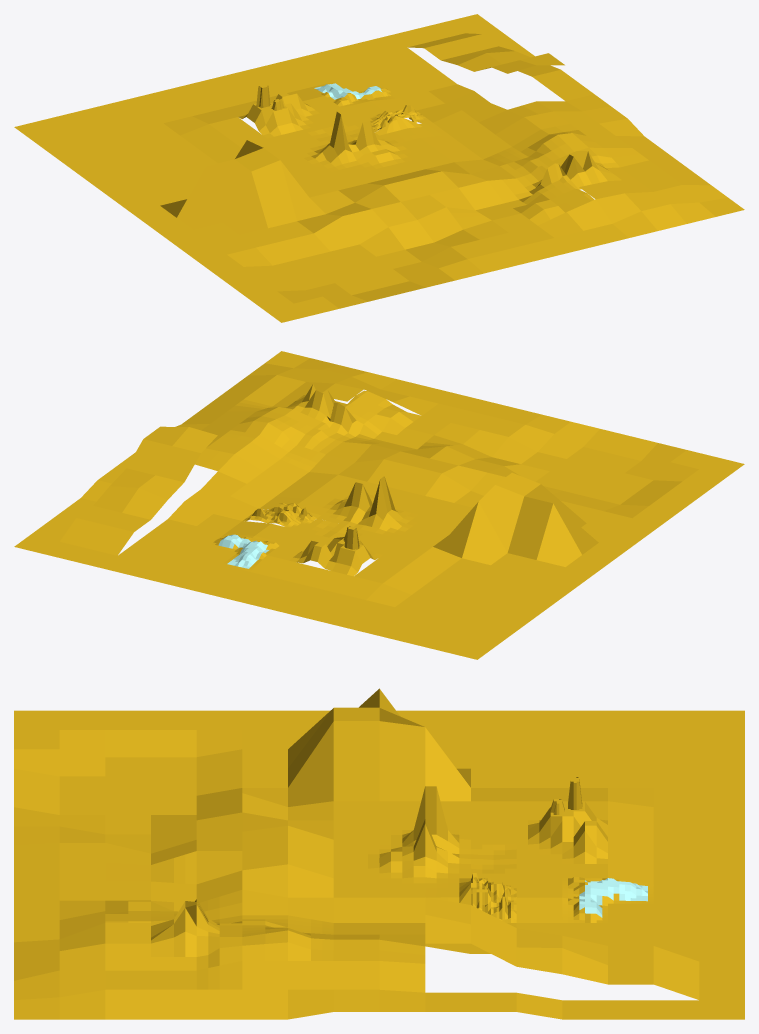
File: Terrain.glb
3 renders of one model, top to bottom at view 1: azimuth 30°, elevation 25°; view 2: azimuth 150°, elevation 25°; view 3: azimuth 270°, elevation 25°, orthographic. The views are drawn at different scales.
Visible parts, largest first — view 1: Plane; view 2: Plane; view 3: Plane.
Part boxes in pixels (x1,y1,x2,y2): Plane: (14, 14, 744, 322); Plane: (14, 351, 744, 659); Plane: (14, 688, 744, 1019).
Bounding box in the file's own units: 40 × 4.51 × 40.
